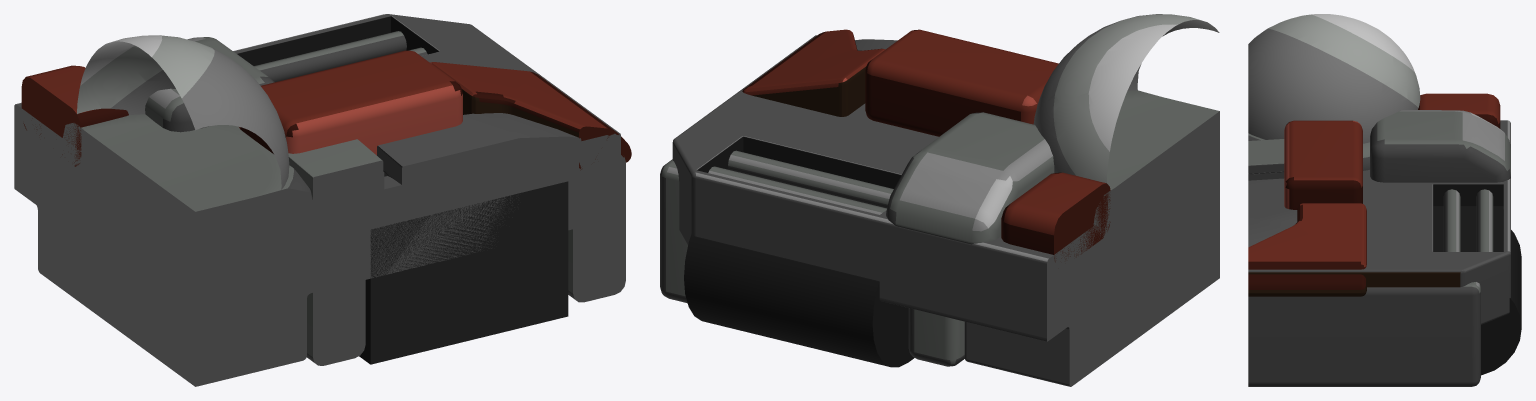
The model's file is track_carrier_tr.glb.
3 renders of one model, left to right at view 1: azimuth 30°, elevation 25°; view 2: azimuth 150°, elevation 25°; view 3: azimuth 270°, elevation 25°, orthographic. The views are drawn at different scales.
Visible parts, largest first — view 1: track_carrier_tr; view 2: track_carrier_tr; view 3: track_carrier_tr.
Boxes of the visible parts, bbox=[...] form: track_carrier_tr: bbox=[14, 14, 631, 386]; track_carrier_tr: bbox=[660, 14, 1219, 386]; track_carrier_tr: bbox=[1248, 14, 1521, 386].
Size of the model in its own units: 22.3 by 15.6 by 16.7.
